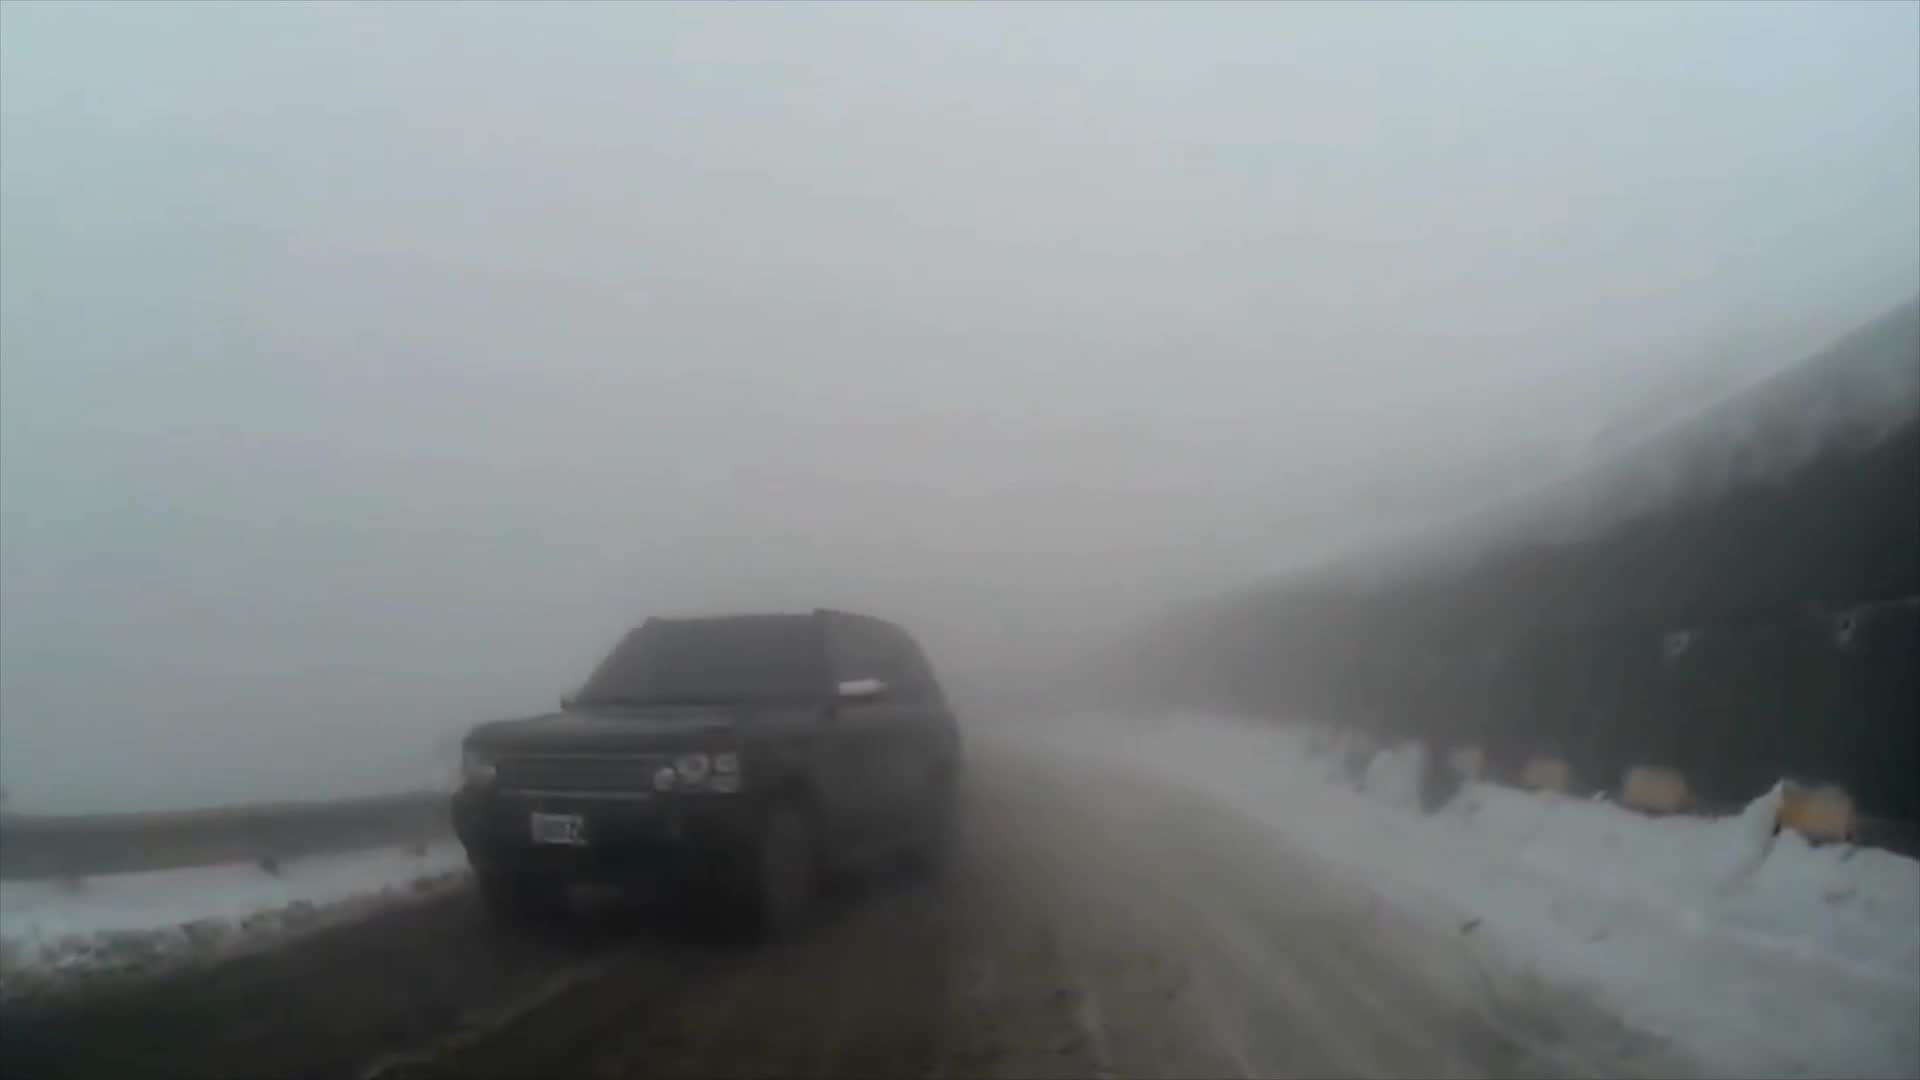vehicle: (444, 605, 986, 956)
